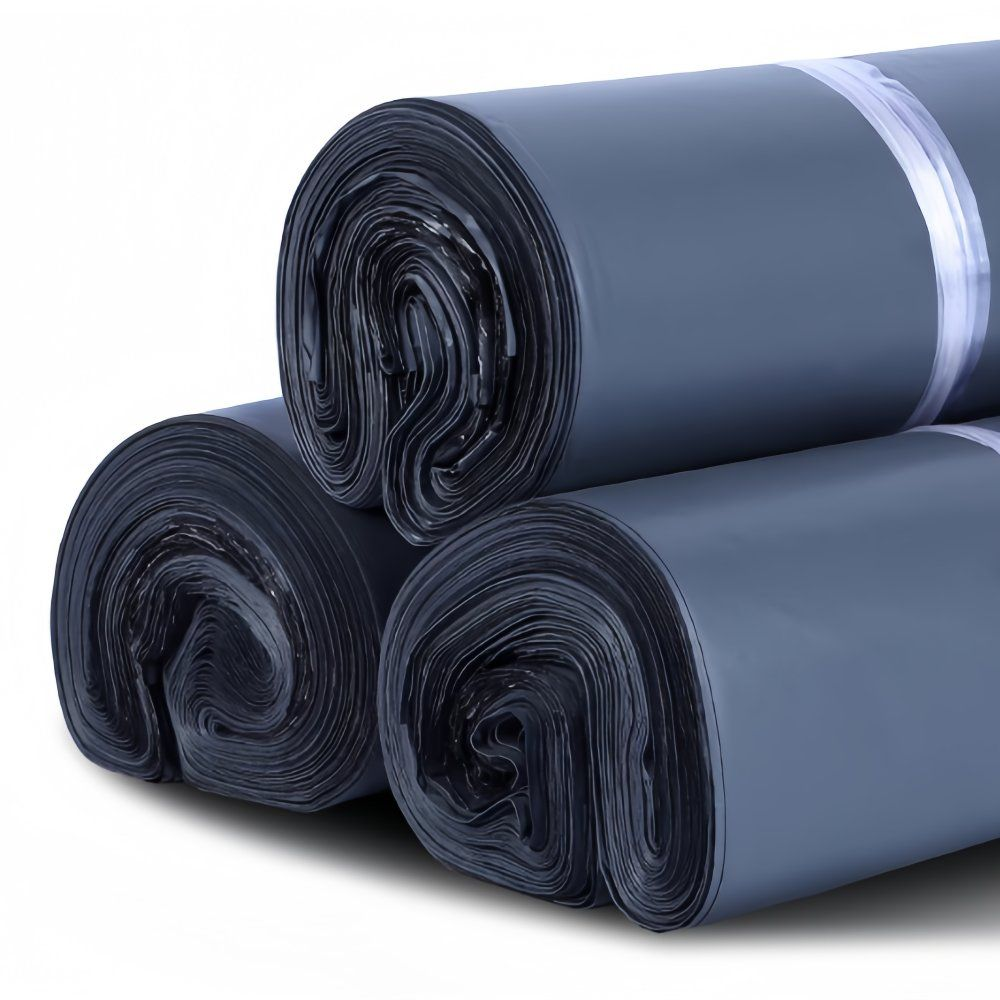Boxes: (51, 60, 1000, 930)
